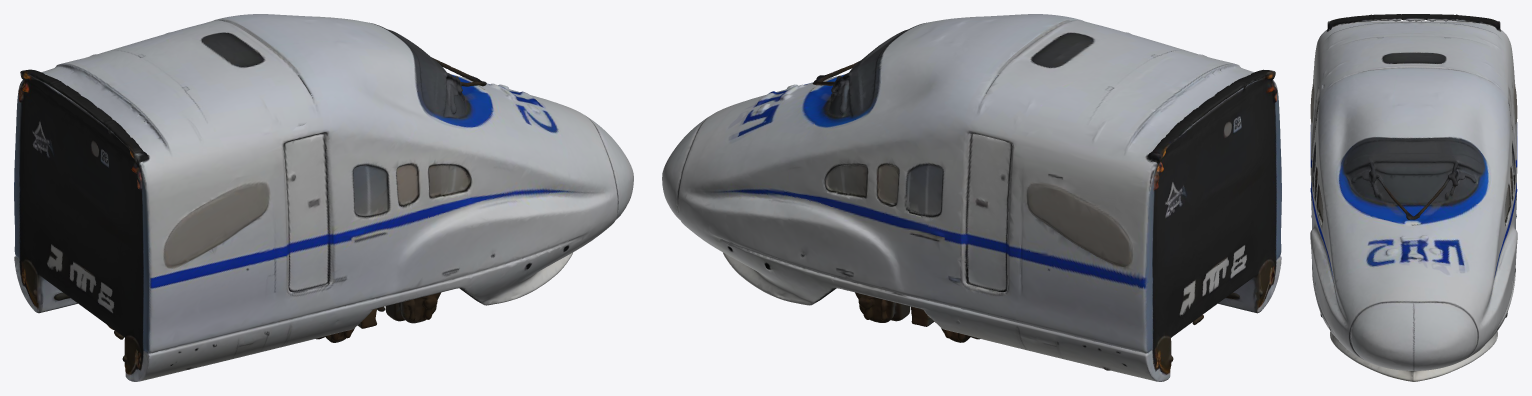
The model's file is CRH380B.glb.
The picture shows the model from 3 angles, left to right: view 1: azimuth 30°, elevation 25°; view 2: azimuth 150°, elevation 25°; view 3: azimuth 270°, elevation 25°; orthographic projection. The views are drawn at different scales.
Parts seen in each view (by area): view 1: tripo_node_927ab3da-32ce-4dc2-bfd3-5485abbfa441; view 2: tripo_node_927ab3da-32ce-4dc2-bfd3-5485abbfa441; view 3: tripo_node_927ab3da-32ce-4dc2-bfd3-5485abbfa441.
Boxes of the visible parts, bbox=[...] form: tripo_node_927ab3da-32ce-4dc2-bfd3-5485abbfa441: bbox=[14, 14, 633, 381]; tripo_node_927ab3da-32ce-4dc2-bfd3-5485abbfa441: bbox=[662, 14, 1281, 381]; tripo_node_927ab3da-32ce-4dc2-bfd3-5485abbfa441: bbox=[1310, 14, 1517, 381].
Size of the model in its own units: 1 by 0.5194 by 0.4416.
Materials: 1 (1 with a texture image).
